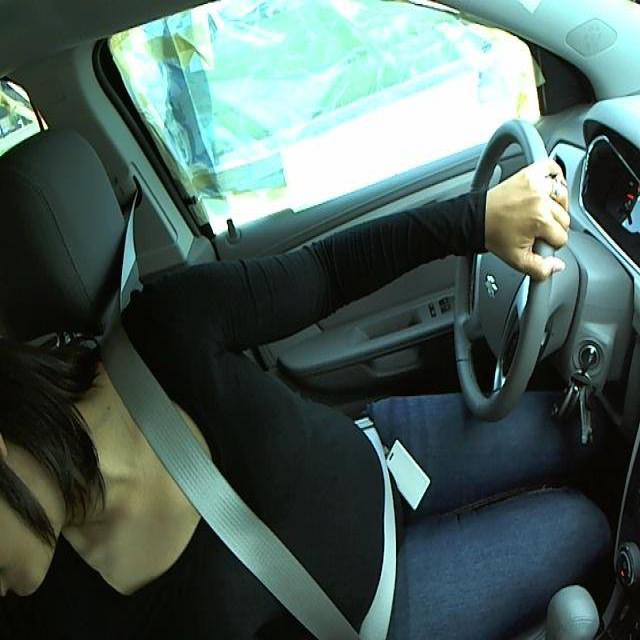seatbelt: (103, 369, 400, 631)
